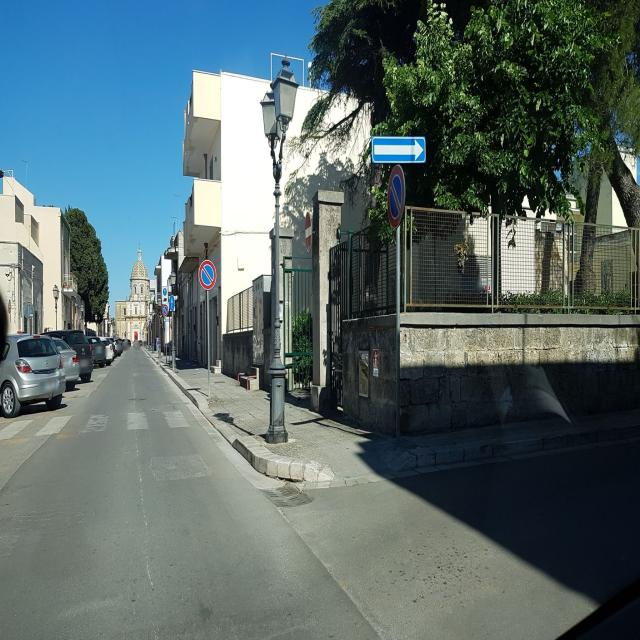forb_stopping: (387, 164, 406, 229), (199, 260, 217, 290), (162, 305, 168, 317)
